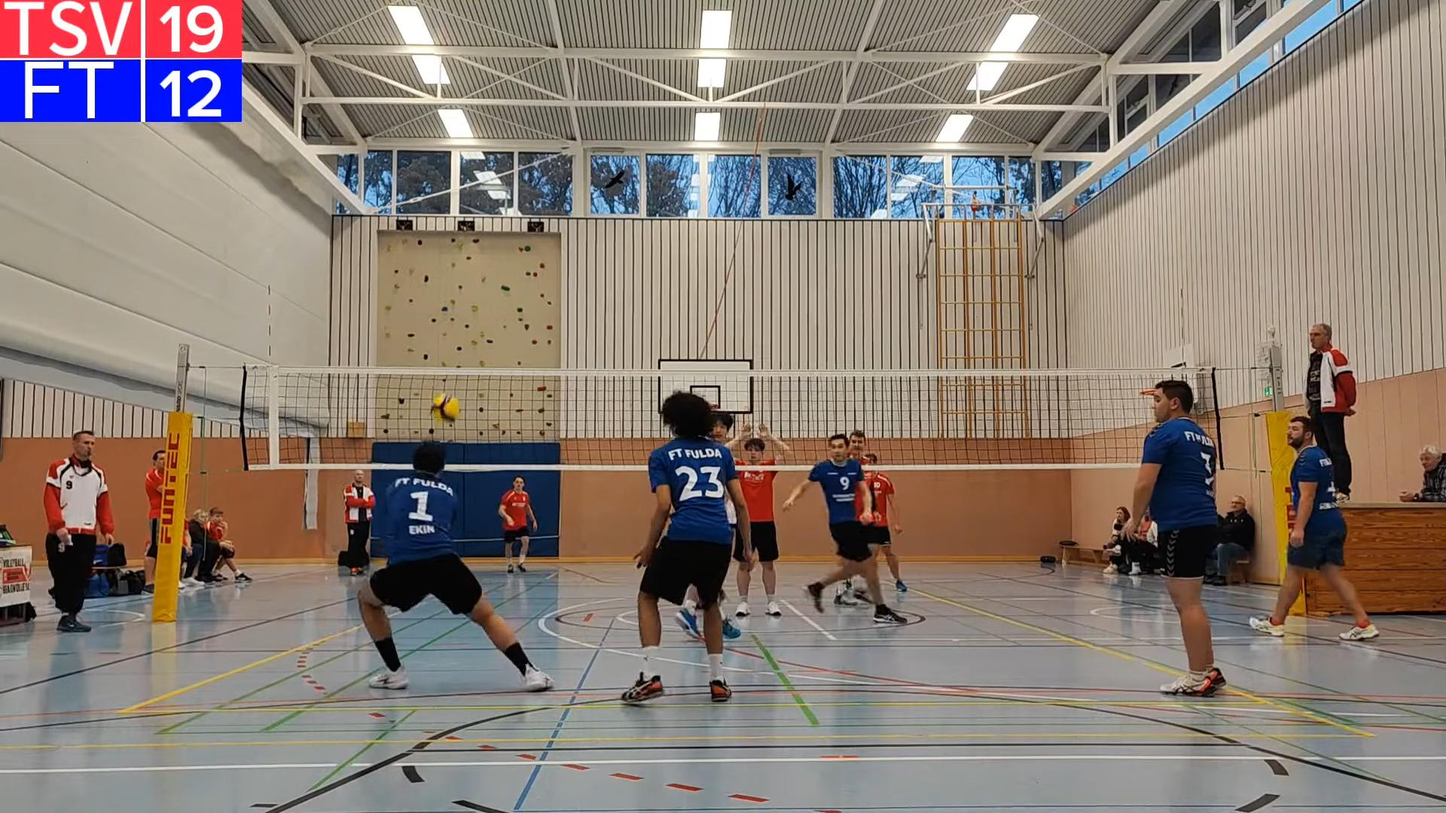Player: (622, 392, 751, 702), (1124, 379, 1224, 696), (1249, 417, 1378, 640), (783, 434, 905, 623), (734, 425, 790, 617), (862, 452, 907, 591), (498, 477, 537, 573), (676, 588, 700, 638), (834, 578, 867, 606), (847, 429, 866, 462)
Receive: (333, 446, 548, 699)
ball: (429, 395, 461, 420)
